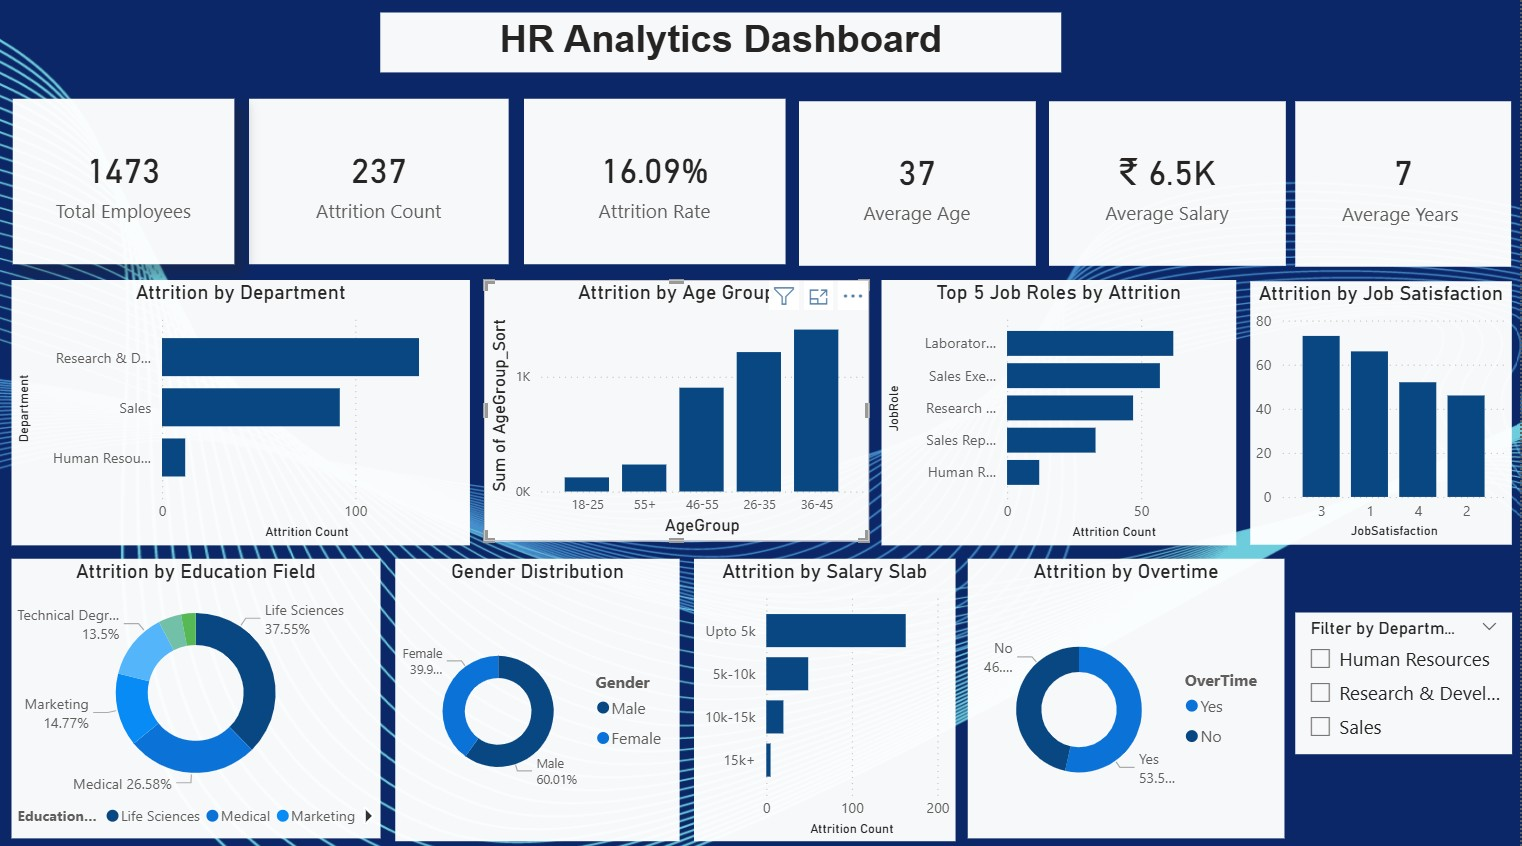

The page's visual inventory and layout, read from the dashboard file:
{"tool":"powerbi","page":{"name":"Page 1","canvas":[1280,720],"ordinal":0},"visuals":[{"type":"card","fields":{"Values":["HR_Analytics_Cleaned.Attrition Count"]},"box":[209.9,87.7,218.6,139.5],"z":0},{"type":"card","fields":{"Values":["HR_Analytics_Cleaned.average salary"]},"box":[882.9,88.9,198.8,138.3],"z":1},{"type":"card","fields":{"Values":["HR_Analytics_Cleaned.attrition rate"]},"box":[442.1,87.7,219.8,139.5],"z":2},{"type":"card","fields":{"Values":["HR_Analytics_Cleaned.average age"]},"box":[673.3,88.9,198.8,138.6],"z":3},{"type":"card","fields":{"Values":["HR_Analytics_Cleaned.average years"]},"box":[1090.3,88.9,181.5,139.5],"z":4},{"type":"card","fields":{"Values":["HR_Analytics_Cleaned.Total Employees"]},"box":[11.1,87.7,186.5,139.5],"z":5},{"type":"donutChart","title":"Attrition by Education Field","fields":{"Category":["HR_Analytics_Cleaned.EducationField"],"Y":["HR_Analytics_Cleaned.Attrition Count"]},"box":[10.5,474.5,310.3,235],"z":6},{"type":"clusteredBarChart","title":"Attrition by Department","fields":{"Category":["HR_Analytics_Cleaned.Department"],"Y":["HR_Analytics_Cleaned.Attrition Count"]},"box":[10.5,239.5,385.6,222.9],"z":8},{"type":"clusteredColumnChart","title":"Attrition by Age Group","fields":{"Category":["HR_Analytics_Cleaned.AgeGroup"],"Y":["Sum(HR_Analytics_Cleaned.AgeGroup_Sort)"]},"box":[408.2,239.5,323.8,219.9],"z":9},{"type":"clusteredBarChart","title":"Attrition by Salary Slab","fields":{"Category":["HR_Analytics_Cleaned.Salary Slab"],"Y":["HR_Analytics_Cleaned.Attrition Count"]},"box":[584.4,474.5,219.9,238],"z":10},{"type":"donutChart","title":"Gender Distribution","fields":{"Category":["HR_Analytics_Cleaned.Gender"],"Y":["CountNonNull(HR_Analytics_Cleaned.EmpID)"]},"box":[332.9,474.5,239.5,238],"z":11},{"type":"clusteredBarChart","title":"Top 5 Job Roles by Attrition","fields":{"Category":["HR_Analytics_Cleaned.JobRole"],"Y":["HR_Analytics_Cleaned.Attrition Count"]},"box":[742.6,239.5,298.2,222.9],"z":12},{"type":"columnChart","title":"Attrition by Job Satisfaction","fields":{"Category":["HR_Analytics_Cleaned.JobSatisfaction"],"Y":["HR_Analytics_Cleaned.Attrition Count"]},"box":[1052.9,241,219.9,221.4],"z":13},{"type":"slicer","fields":{"Values":["HR_Analytics_Cleaned.Department"]},"box":[1090.5,519.7,182.3,119],"z":14},{"type":"textbox","box":[321.1,14.8,573,50.6],"z":15},{"type":"donutChart","title":"Attrition by Overtime","fields":{"Category":["HR_Analytics_Cleaned.OverTime"],"Y":["HR_Analytics_Cleaned.Attrition Count"]},"box":[814.9,474.5,266.6,235],"z":16}]}

Visuals, with their boxes in screenshot pixels (x1, y1, x2, y2), scaled from the page's 1280x720 canvas onto the 1522x846 screenshot:
card - HR_Analytics_Cleaned.Attrition Count: select_region(250, 103, 510, 267)
card - HR_Analytics_Cleaned.average salary: select_region(1050, 104, 1286, 267)
card - HR_Analytics_Cleaned.attrition rate: select_region(526, 103, 787, 267)
card - HR_Analytics_Cleaned.average age: select_region(801, 104, 1037, 267)
card - HR_Analytics_Cleaned.average years: select_region(1296, 104, 1512, 268)
card - HR_Analytics_Cleaned.Total Employees: select_region(13, 103, 235, 267)
"Attrition by Education Field" donutChart: select_region(12, 558, 381, 834)
"Attrition by Department" clusteredBarChart: select_region(12, 281, 471, 543)
"Attrition by Age Group" clusteredColumnChart: select_region(485, 281, 870, 540)
"Attrition by Salary Slab" clusteredBarChart: select_region(695, 558, 956, 837)
"Gender Distribution" donutChart: select_region(396, 558, 681, 837)
"Top 5 Job Roles by Attrition" clusteredBarChart: select_region(883, 281, 1238, 543)
"Attrition by Job Satisfaction" columnChart: select_region(1252, 283, 1513, 543)
slicer - HR_Analytics_Cleaned.Department: select_region(1297, 611, 1513, 750)
textbox: select_region(382, 17, 1063, 77)
"Attrition by Overtime" donutChart: select_region(969, 558, 1286, 834)
